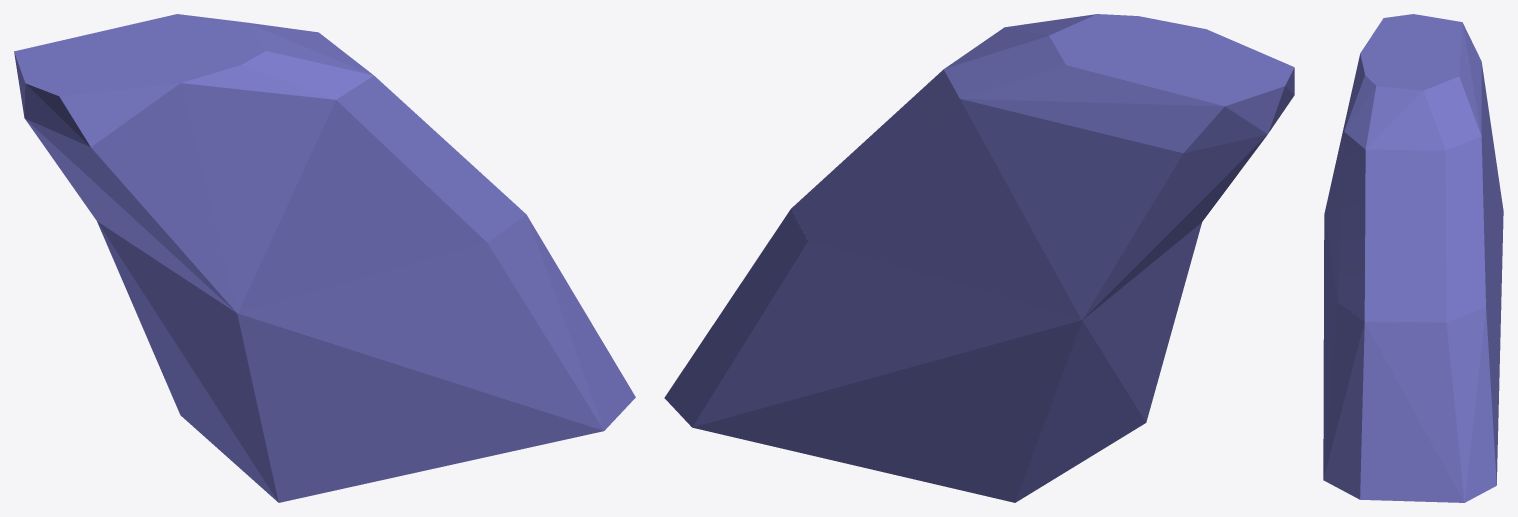
Rendered from Cliff_Sediment_01_Skew_Collider_01.FBX.
3 renders of one model, left to right at view 1: azimuth 30°, elevation 25°; view 2: azimuth 150°, elevation 25°; view 3: azimuth 270°, elevation 25°, orthographic. The views are drawn at different scales.
Parts seen in each view (by area): view 1: COLLIDER2, COLLIDER1; view 2: COLLIDER2, COLLIDER1; view 3: COLLIDER2, COLLIDER1.
Boxes of the visible parts, <box> form: COLLIDER2: <box>14,14,526,313</box>; COLLIDER1: <box>97,214,635,502</box>; COLLIDER2: <box>791,14,1294,319</box>; COLLIDER1: <box>664,208,1201,502</box>; COLLIDER2: <box>1324,14,1503,322</box>; COLLIDER1: <box>1323,211,1503,502</box>.
Size of the model in its own units: 352 by 246 by 137.
